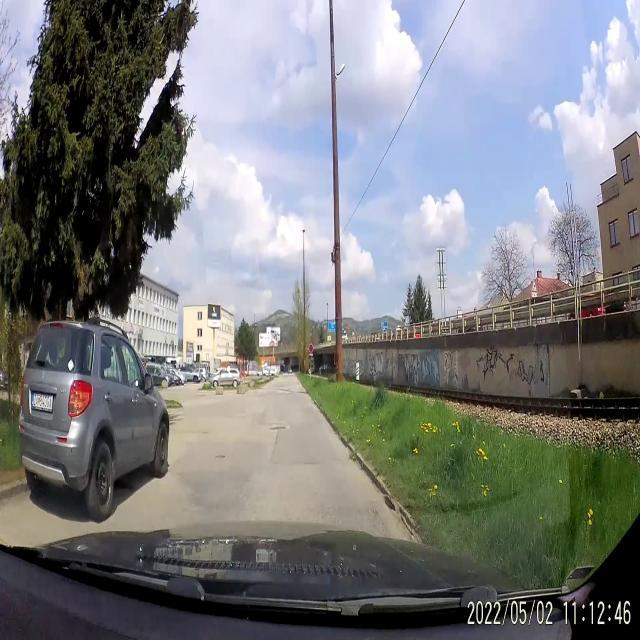Manhole: (266, 420, 296, 434), (216, 449, 227, 463)
